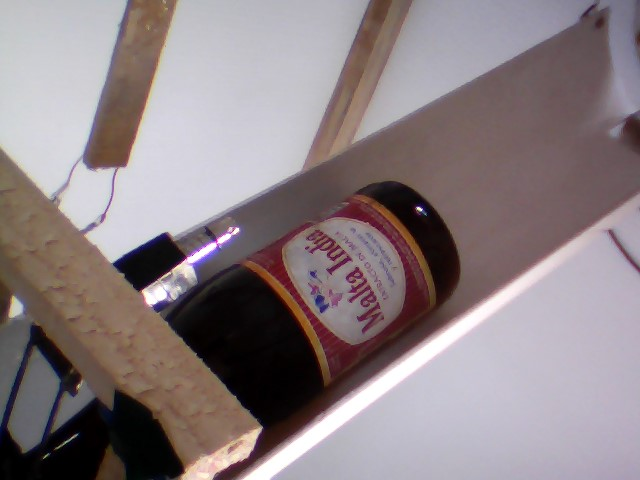vidrio: (167, 168, 467, 426)
